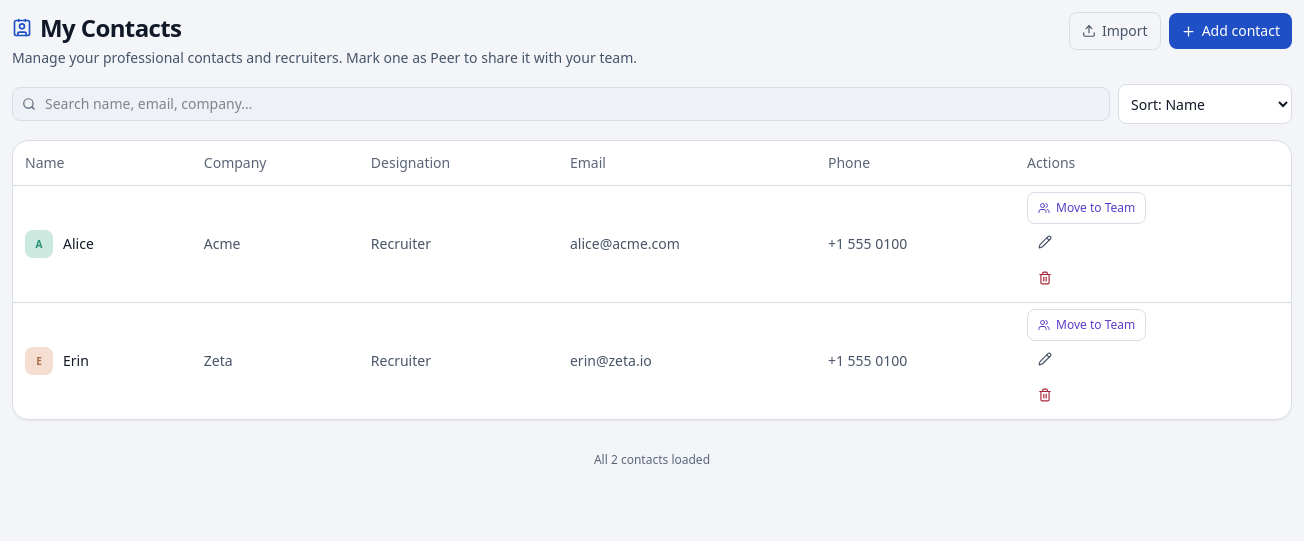
Test: ContactsPanel › moves a personal contact to Team with one click, and says where it went
Expected: the text "Alice" is shown, [63,234,94,254]
What coordinates should you click on to do the following:
click the button with aria-label "Move Alice to Team"
I would click on:
 (1087, 208)
Its box is [1027,192,1146,224].
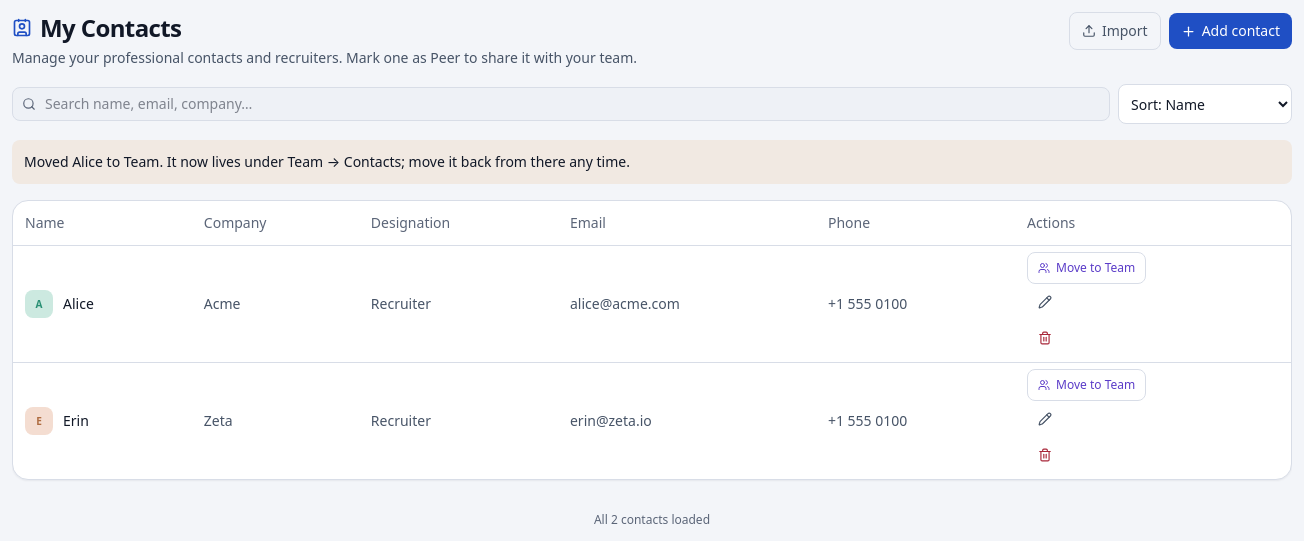
Expected: the message shows "Moved Alice to Team", [24,152,630,171]
